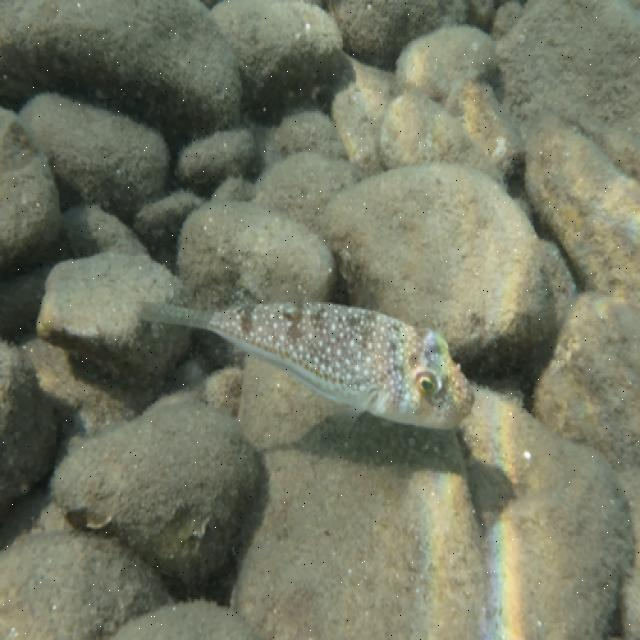Balik: (143, 304, 473, 428)
